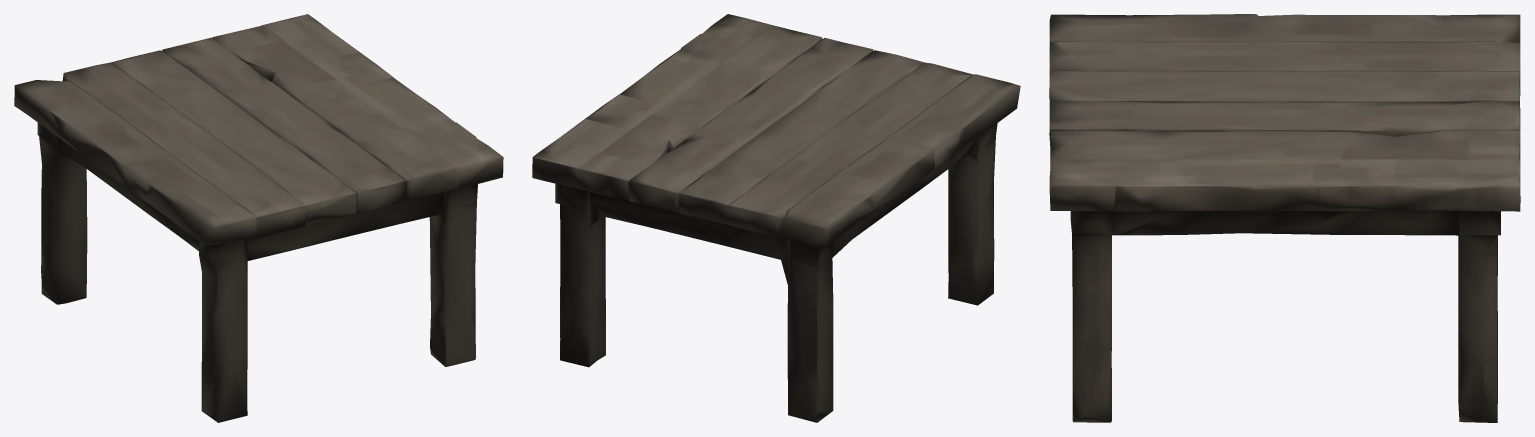
The model's file is blocky+wooden+table+3d+model.glb.
3 views of the same model, side by side, from view 1: azimuth 30°, elevation 25°; view 2: azimuth 150°, elevation 25°; view 3: azimuth 270°, elevation 25° (orthographic). The views are drawn at different scales.
Visible parts, largest first — view 1: tripo_node_9f02ecfc-61f5-466e-b14d-7856653c618a; view 2: tripo_node_9f02ecfc-61f5-466e-b14d-7856653c618a; view 3: tripo_node_9f02ecfc-61f5-466e-b14d-7856653c618a.
Boxes of the visible parts, <box> form: tripo_node_9f02ecfc-61f5-466e-b14d-7856653c618a: <box>14,14,503,422</box>; tripo_node_9f02ecfc-61f5-466e-b14d-7856653c618a: <box>532,14,1020,422</box>; tripo_node_9f02ecfc-61f5-466e-b14d-7856653c618a: <box>1049,14,1520,422</box>.
Size of the model in its own units: 0.8656 by 0.5803 by 1.
Materials: 1 (1 with a texture image).
